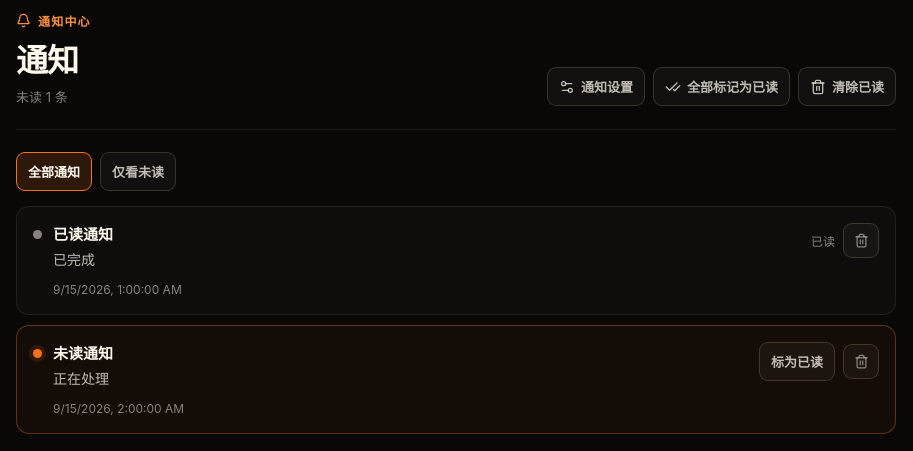
Scenario: 通知中心 › 清除已读记录后以服务端列表为准刷新，不删除未读通知
Expected: the heading "已读通知" is shown, left=53, top=225, right=113, bottom=244
Click the button "清除已读" at (847, 86), box left=798, top=67, right=896, bottom=106
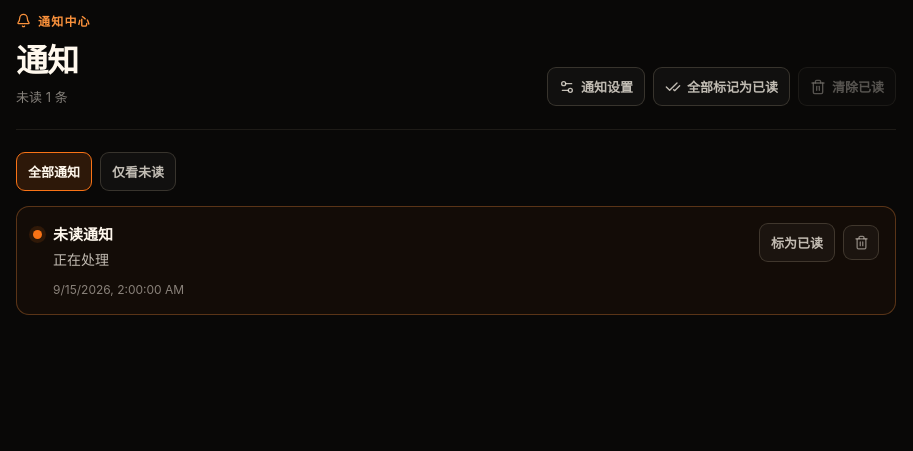
Expected: the heading "未读通知" is shown, left=53, top=225, right=113, bottom=244
Now the heading "已读通知" is gone
